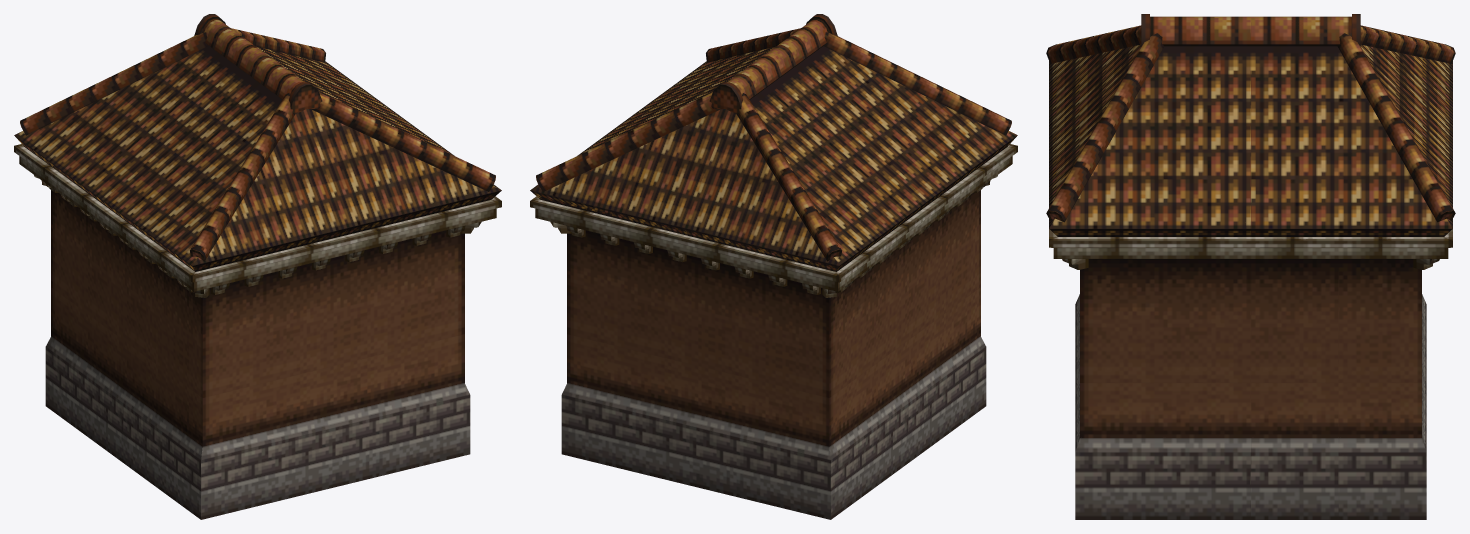
Rendered from EnvBdgMD_Sea_A_Outdoor_House_A.FBX.
3 views of the same model, side by side, from view 1: azimuth 30°, elevation 25°; view 2: azimuth 150°, elevation 25°; view 3: azimuth 270°, elevation 25° (orthographic). The views are drawn at different scales.
Parts seen in each view (by area): view 1: EnvBdgMD_Sea_A_Outdoor_House_A; view 2: EnvBdgMD_Sea_A_Outdoor_House_A; view 3: EnvBdgMD_Sea_A_Outdoor_House_A.
Part boxes in pixels (left/top/right/bottom): EnvBdgMD_Sea_A_Outdoor_House_A: left=14, top=14, right=501, bottom=519; EnvBdgMD_Sea_A_Outdoor_House_A: left=530, top=14, right=1017, bottom=519; EnvBdgMD_Sea_A_Outdoor_House_A: left=1046, top=14, right=1455, bottom=519.
Size of the model in its own units: 460 by 541 by 467.
2 materials, 2 textured.
